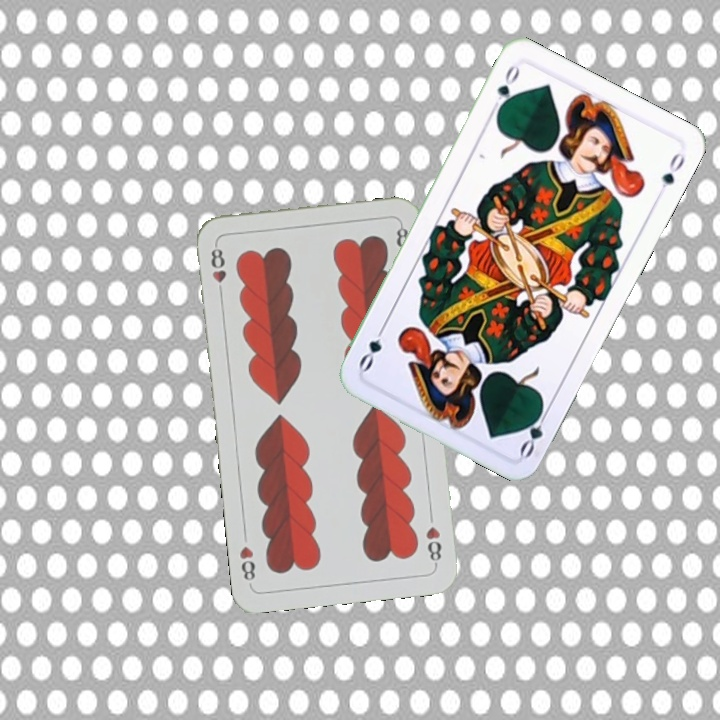GO: (515, 402, 553, 460), (487, 61, 523, 117)
H8: (207, 240, 229, 299), (421, 522, 444, 568)
